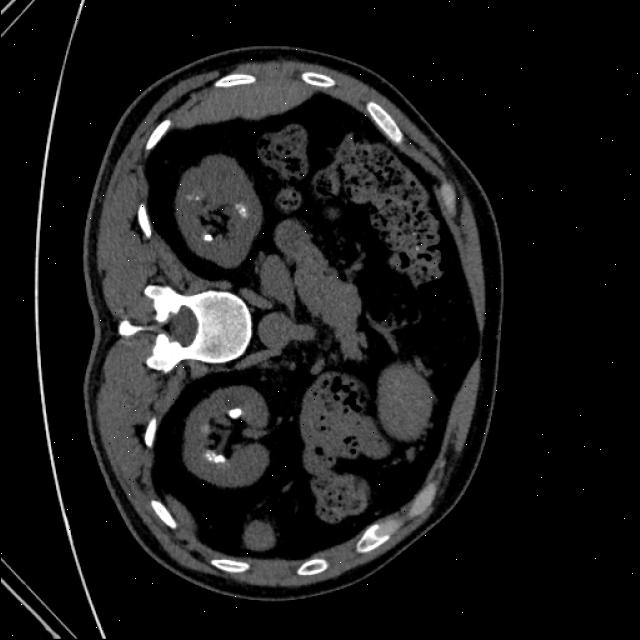kidneystone: (204, 450, 225, 464), (234, 204, 248, 218), (227, 409, 241, 419), (203, 234, 212, 242)
